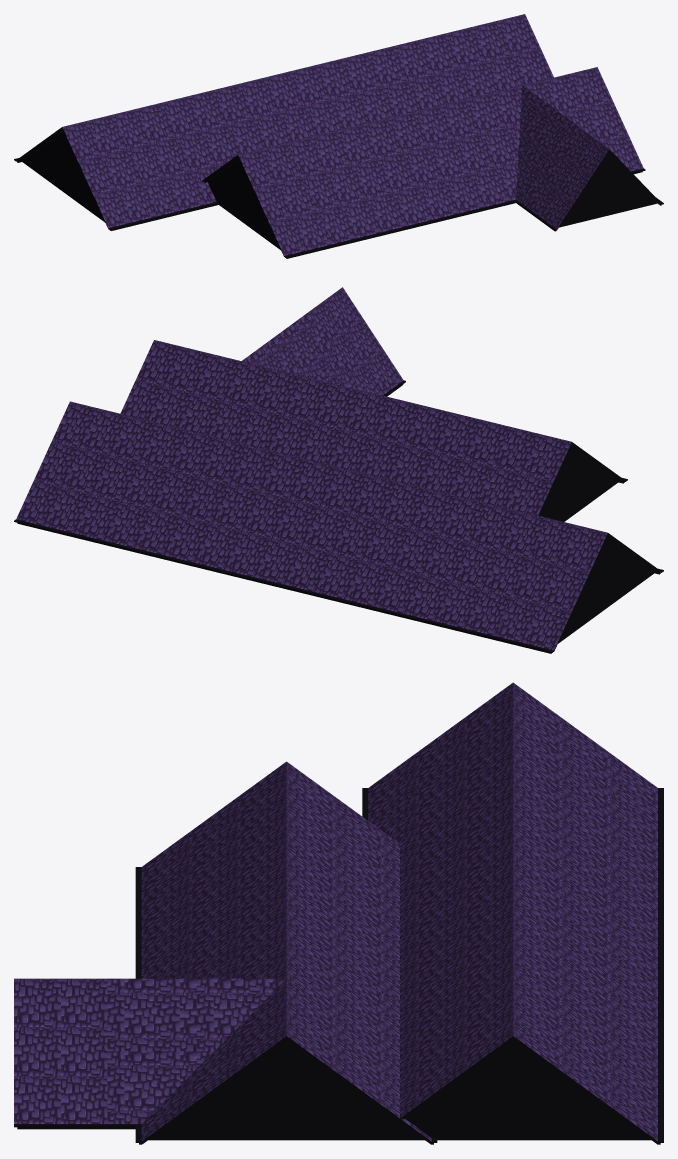
The model's file is Roof with textures.fbx.
3 renders of one model, top to bottom at view 1: azimuth 30°, elevation 25°; view 2: azimuth 150°, elevation 25°; view 3: azimuth 270°, elevation 25°, orthographic. The views are drawn at different scales.
Visible parts, largest first — view 1: Cube.304; view 2: Cube.304; view 3: Cube.304.
Boxes of the visible parts, x1,y1,x2,y2 form: Cube.304: (14,14,663,258); Cube.304: (14,287,663,653); Cube.304: (14,682,663,1144).
Size of the model in its own units: 2954 by 428 by 2295.
